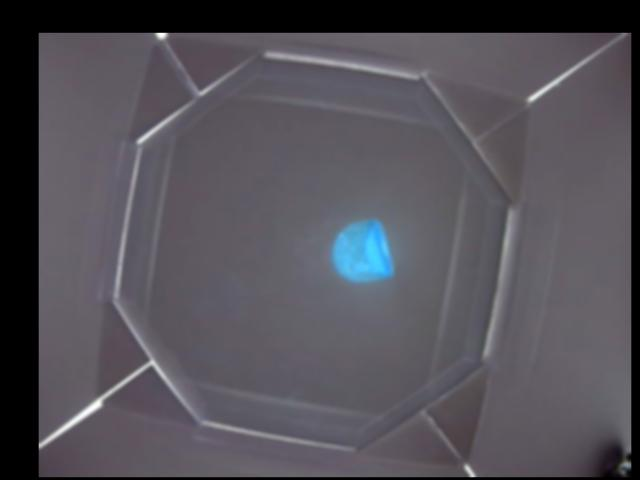Carrot: (332, 220, 391, 281)
